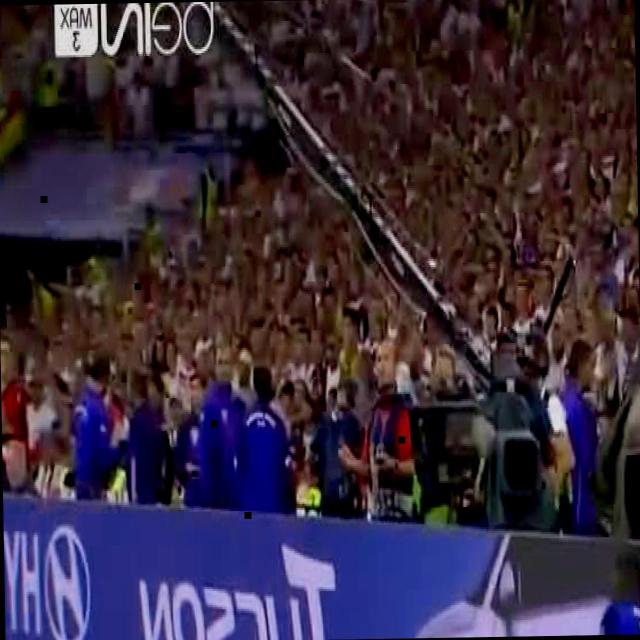player-white: (487, 551, 640, 637)
